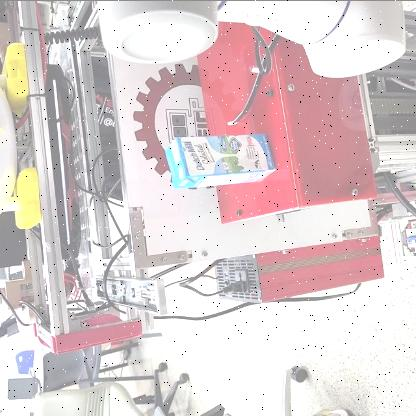Others: (154, 121, 284, 201)
